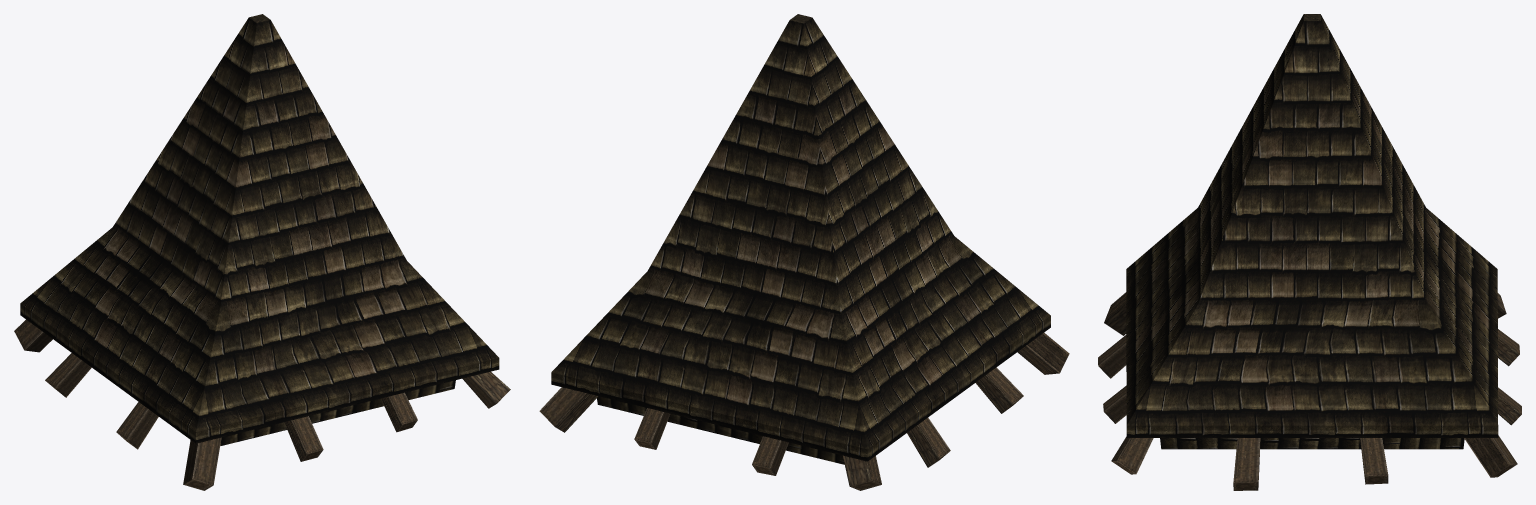
The model's file is Roof_6X6_03c.fbx.
3 renders of one model, left to right at view 1: azimuth 30°, elevation 25°; view 2: azimuth 150°, elevation 25°; view 3: azimuth 270°, elevation 25°, orthographic. The views are drawn at different scales.
Parts seen in each view (by area): view 1: Roof_6X6_03c; view 2: Roof_6X6_03c; view 3: Roof_6X6_03c.
Boxes of the visible parts, x1,y1,x2,y2 form: Roof_6X6_03c: (14, 14, 510, 490); Roof_6X6_03c: (539, 14, 1069, 490); Roof_6X6_03c: (1098, 14, 1521, 490).
Size of the model in its own units: 9.29 by 9.34 by 9.13.
